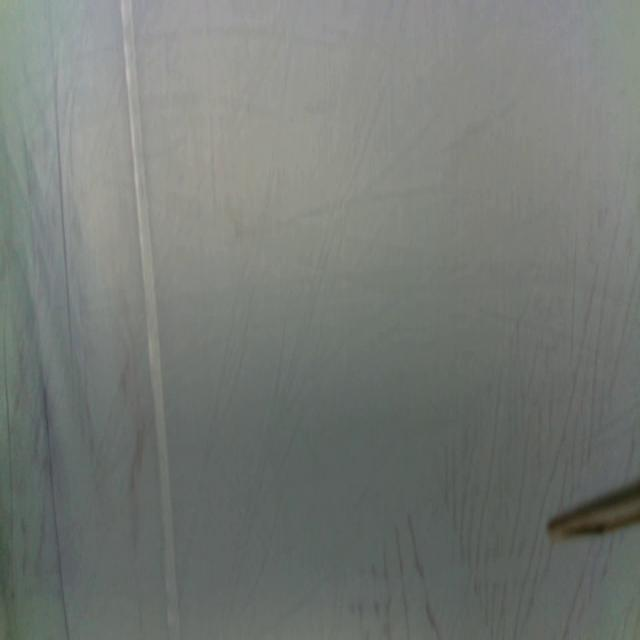crease: (120, 0, 180, 640), (42, 386, 69, 640), (53, 80, 74, 350), (2, 321, 15, 540)
